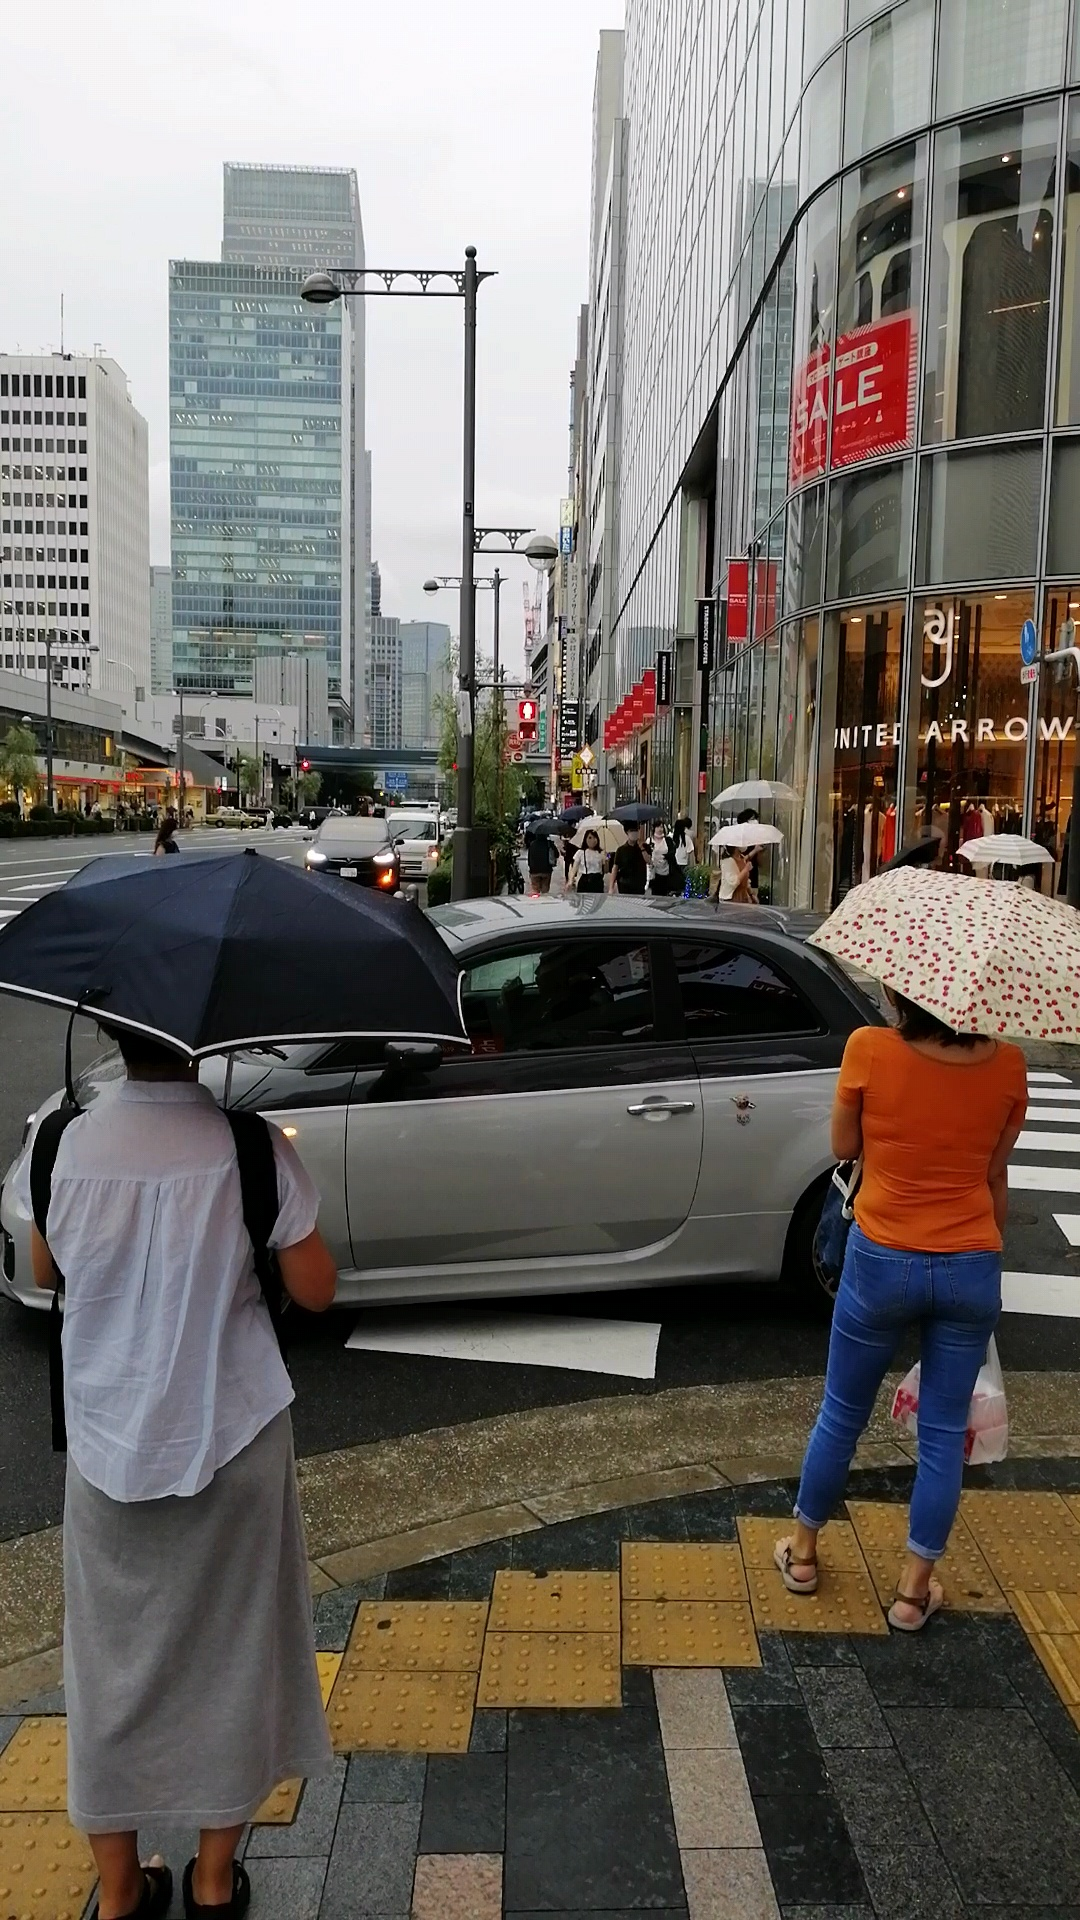red: (517, 699, 538, 746)
